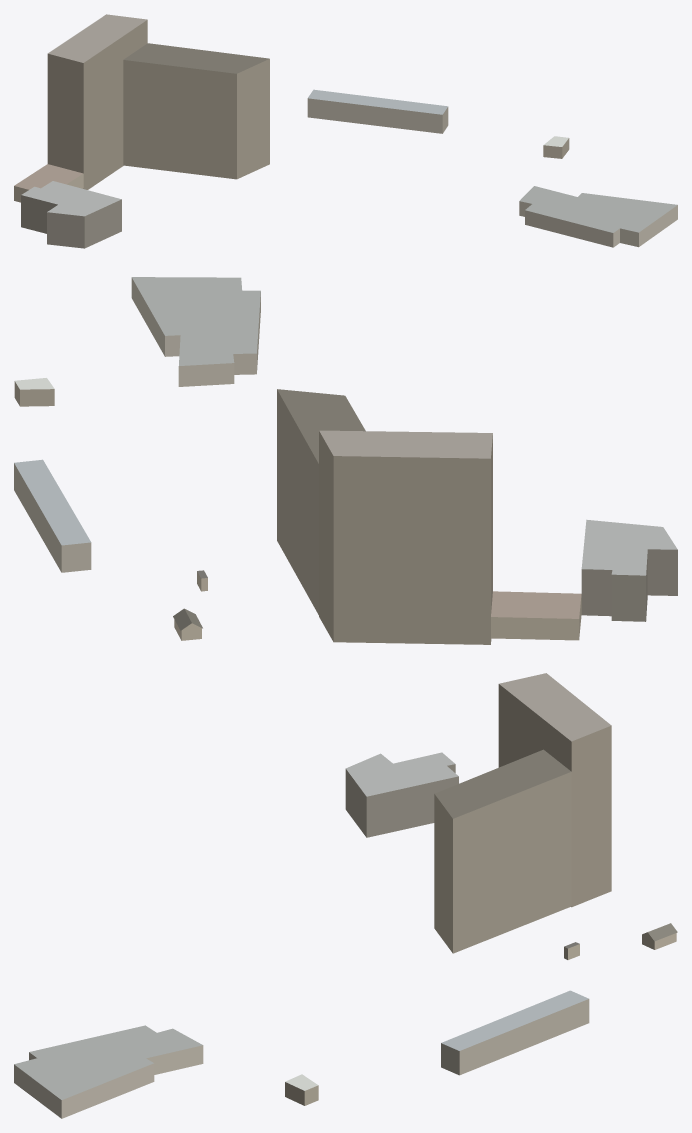
3 views of the same model, one above another, from view 1: azimuth 30°, elevation 25°; view 2: azimuth 150°, elevation 25°; view 3: azimuth 270°, elevation 25° (orthographic). The views are drawn at different scales.
Visible parts, largest first — view 1: tuile; view 2: tuile; view 3: tuile.
Boxes of the visible parts, x1,y1,x2,y2 form: tuile: (14,14,677,248); tuile: (14,277,677,644); tuile: (14,673,677,1118).
Size of the model in its own units: 254 by 65.13 by 225.
